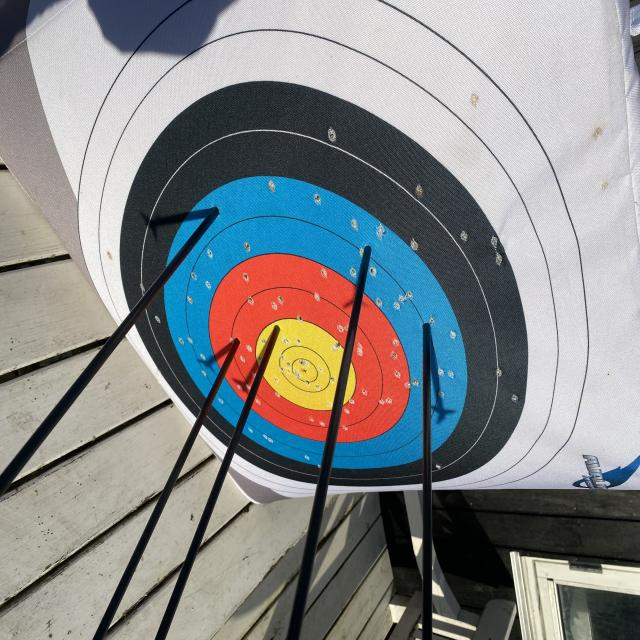Arrow_Blue: (404, 311, 440, 348), (206, 194, 233, 232), (351, 240, 384, 270)
Arrow_Red: (223, 327, 248, 357)
Arrow_Yellow: (267, 316, 291, 352)
